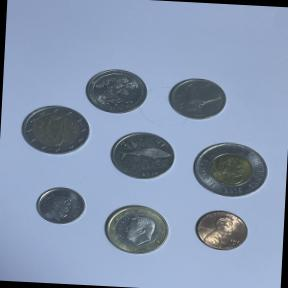coin: (187, 137, 274, 202), (94, 197, 178, 261), (15, 102, 94, 158), (105, 128, 179, 183), (188, 202, 257, 255), (82, 66, 151, 116), (28, 180, 89, 230)
